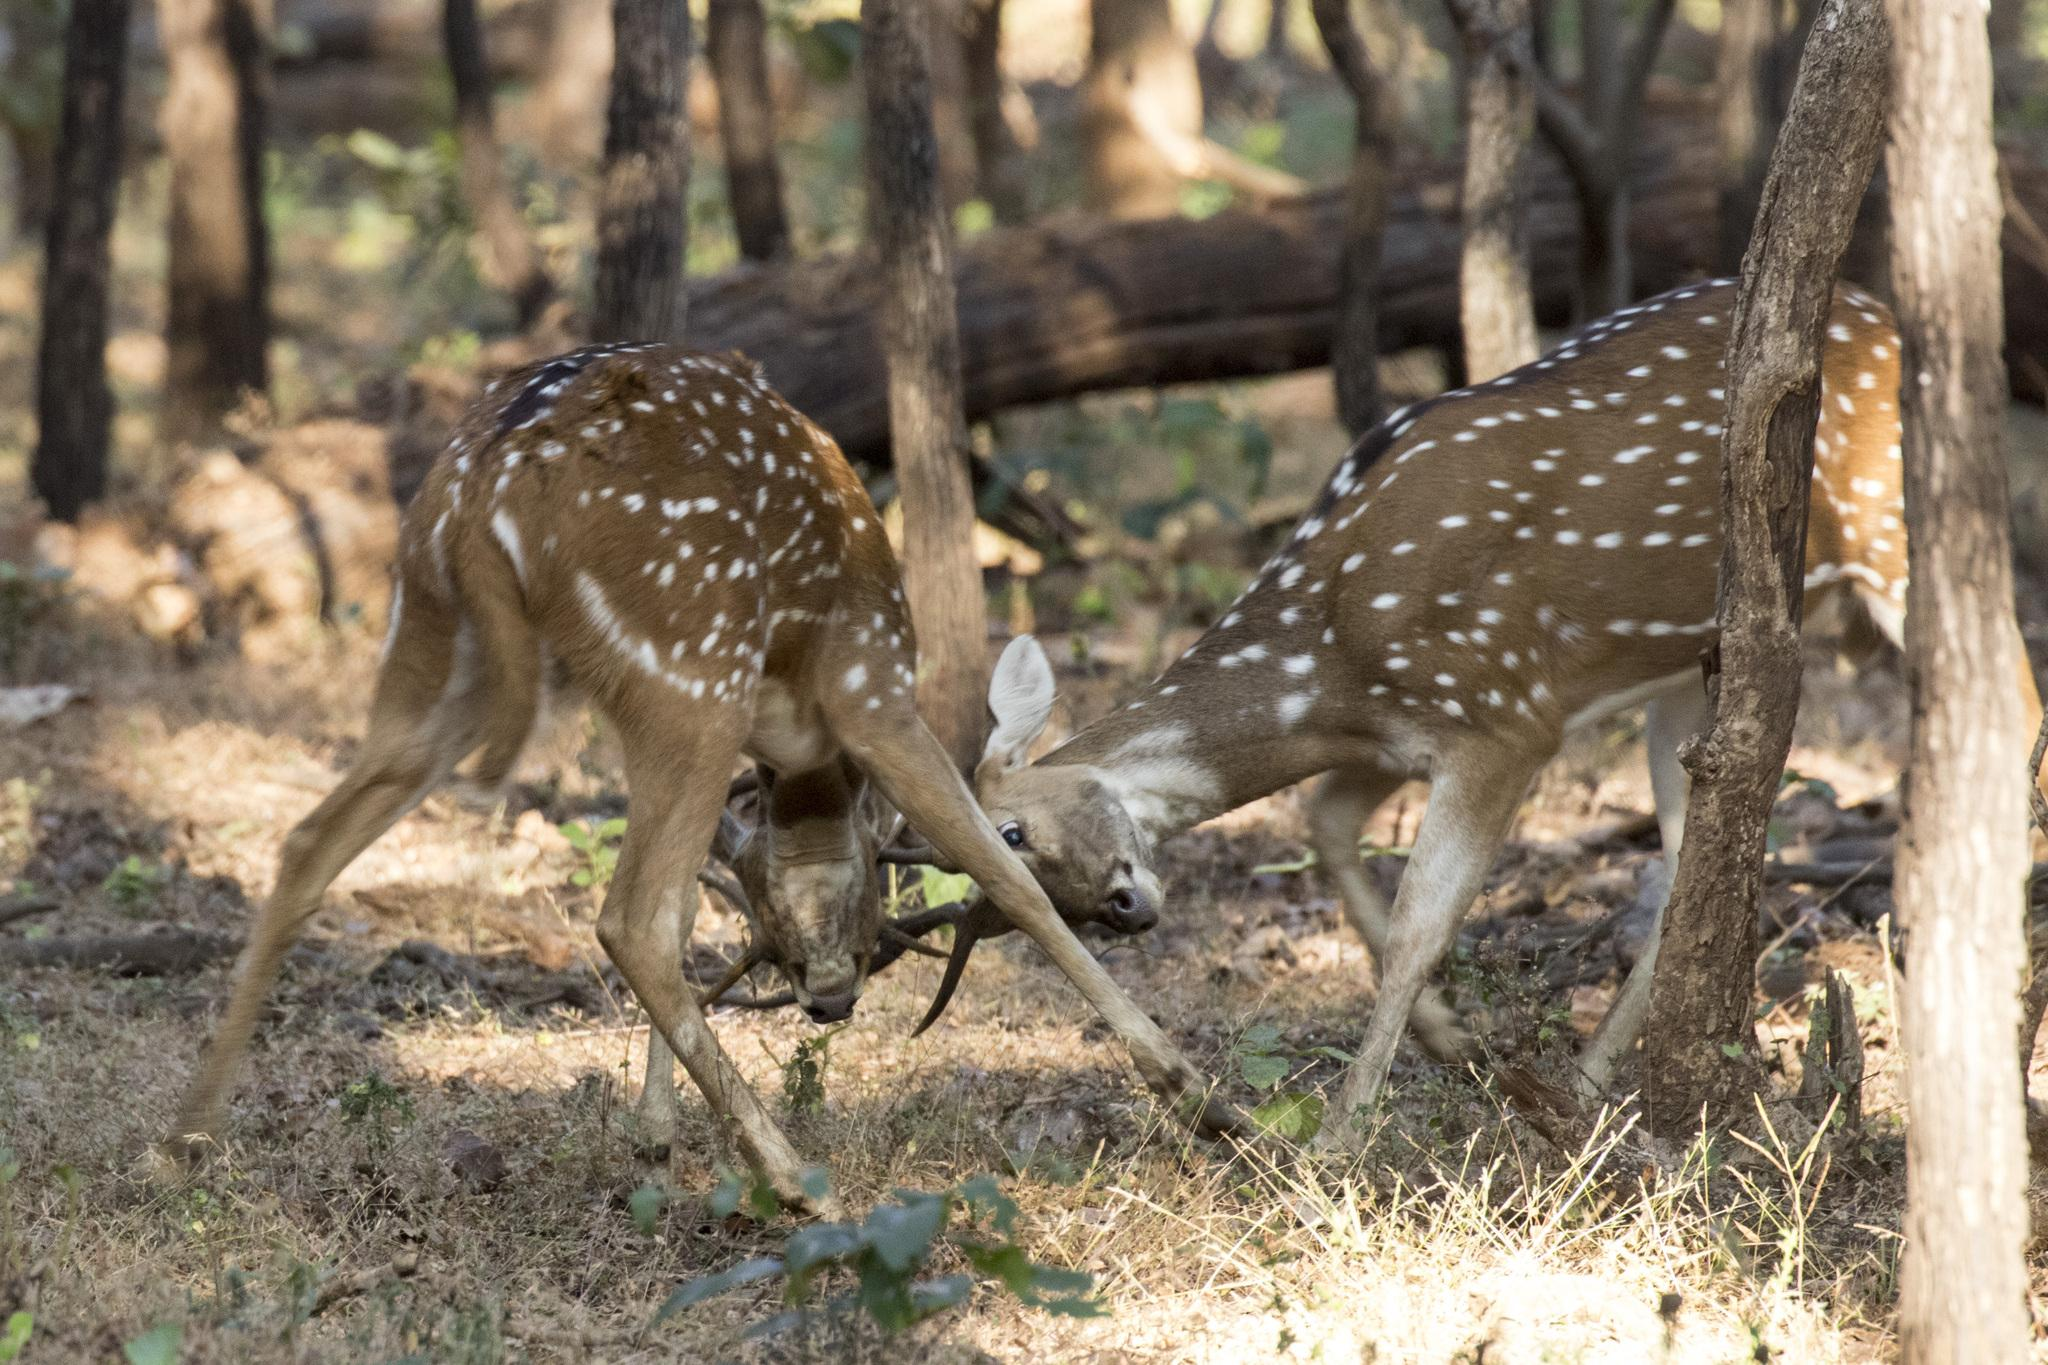Deer: (178, 343, 1197, 1202), (970, 277, 1747, 1117)
